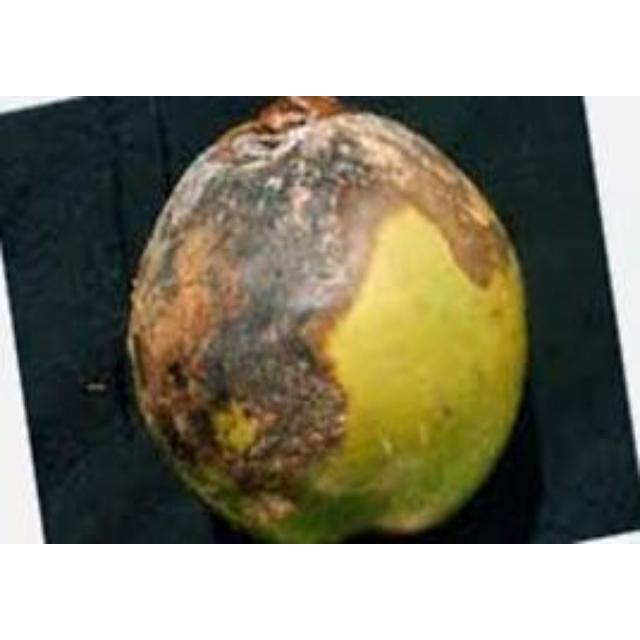damaged: (105, 96, 533, 543)
